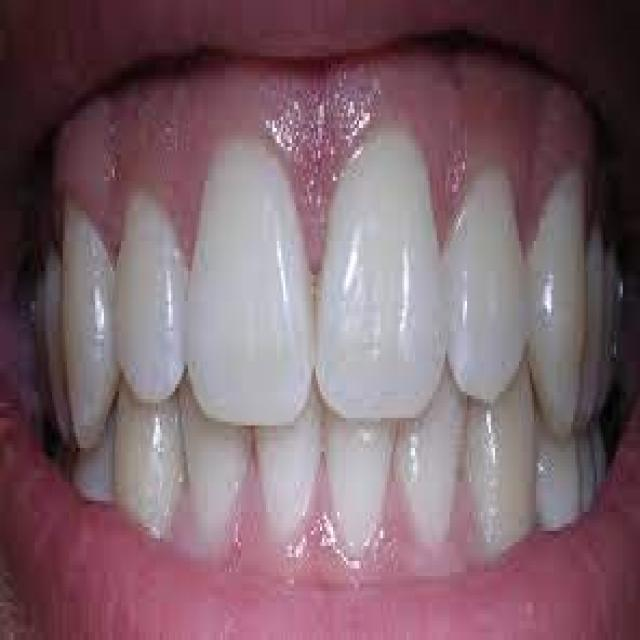tooth: (192, 177, 310, 418), (329, 162, 439, 414), (530, 192, 590, 429), (450, 196, 521, 392), (119, 215, 182, 388), (60, 226, 114, 425), (465, 410, 525, 542), (121, 414, 177, 542), (402, 429, 454, 554), (331, 437, 385, 546), (262, 441, 314, 542), (195, 436, 240, 534), (534, 441, 580, 527), (597, 218, 616, 396), (82, 452, 115, 512), (46, 256, 56, 388), (582, 448, 594, 520), (597, 441, 605, 493)
